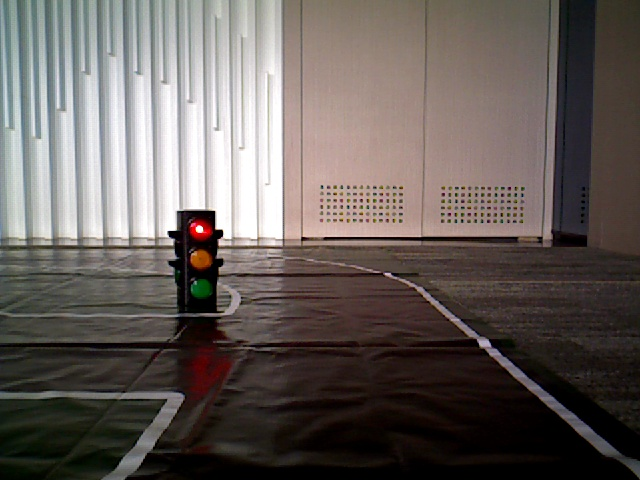red: (181, 214, 212, 306)
